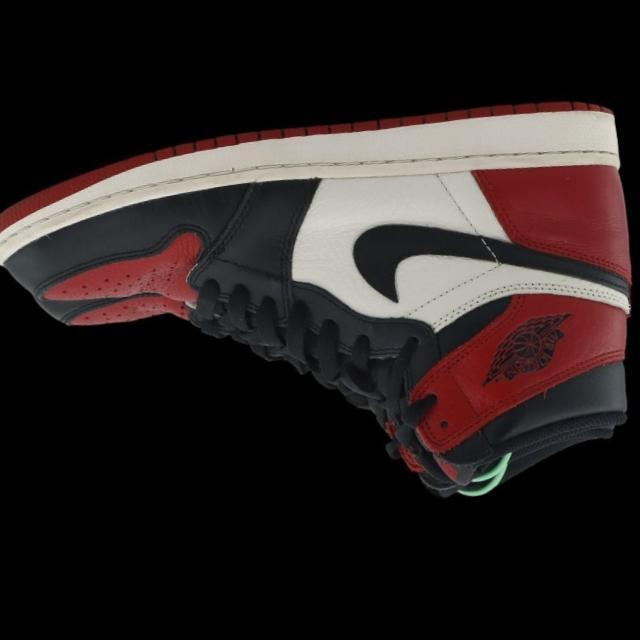nike original jordan 1: (0, 79, 640, 553), (35, 215, 624, 549)
